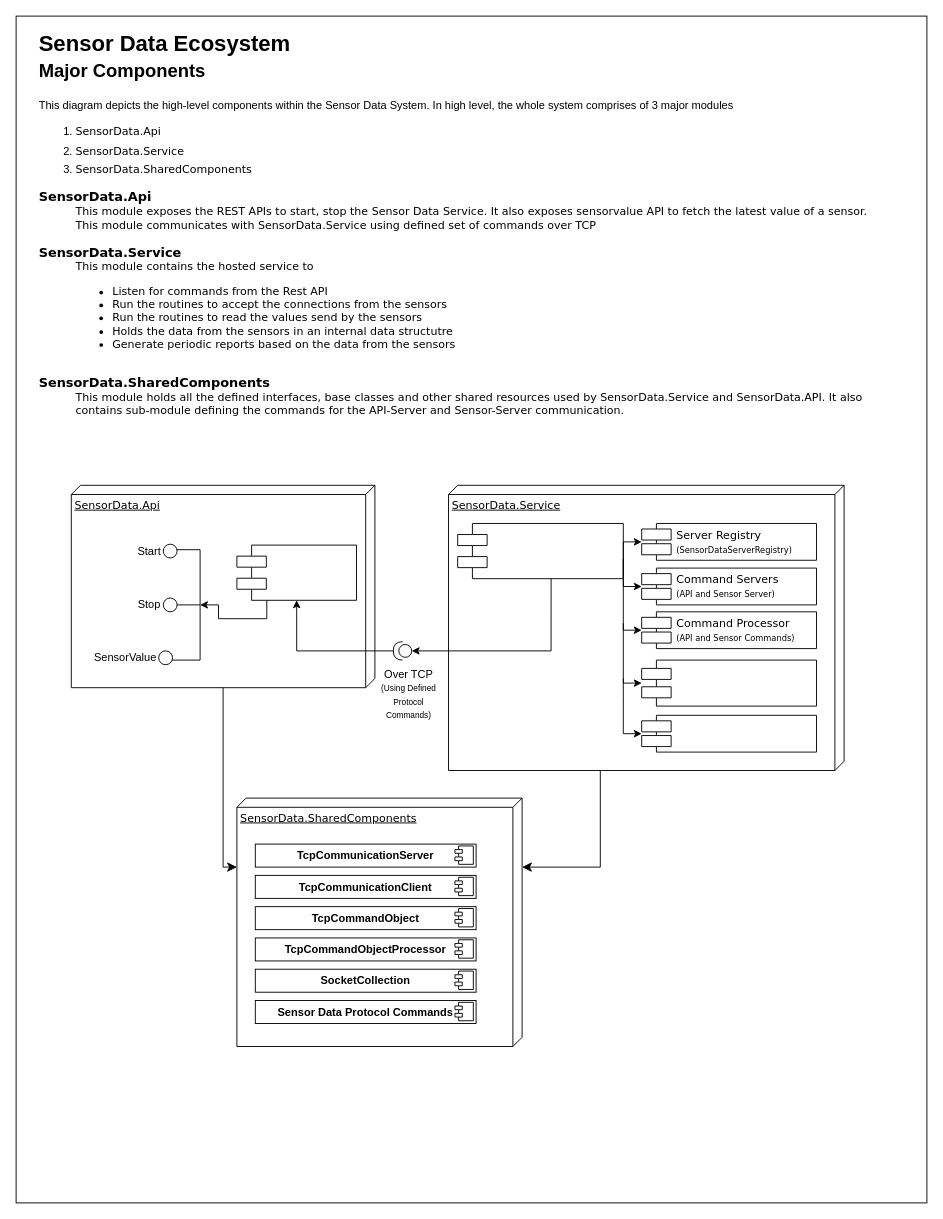
Image size: 943x1219. Some labels were removed from this diagram. The centre of each missing label's shape, as x and y in pixels:
API Controller: point (296, 572)
Hosted Service (SensorDataServiceWorker): point (540, 551)
Report Generator (Sensor Value Report Generator): point (728, 733)
Sensor Value Collection (Internal data structure holding sensor values): point (728, 682)
